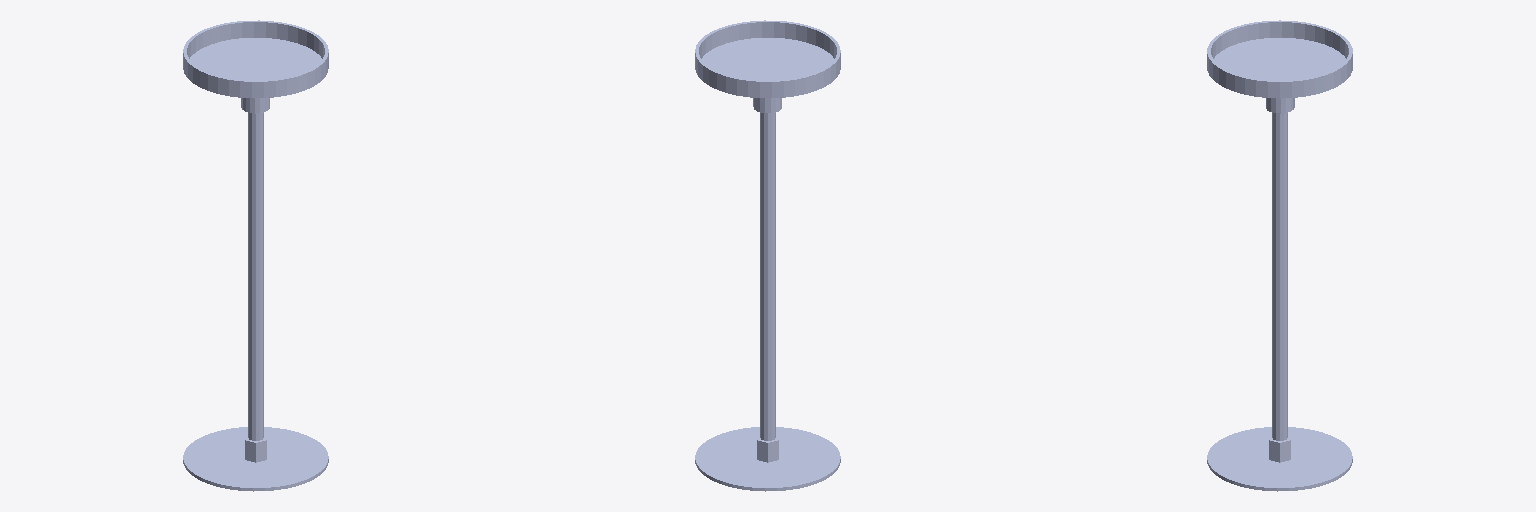
robot.urdf — niot_candy:
<robot
  name="niot_candy">
  <link
    name="base_link">
    <inertial>
      <origin
        xyz="0.059548 0.34292 0.18827"
        rpy="0 0 0" />
      <mass
        value="0.55615" />
      <inertia
        ixx="0.029936"
        ixy="2.1512E-18"
        ixz="-8.0471E-35"
        iyy="6.1915E-34"
        iyz="-7.2222E-35"
        izz="0.029936" />
    </inertial>
    <visual>
      <origin
        xyz="0 0 0"
        rpy="0 0 0" />
      <geometry>
        <mesh
          filename="package://niot_candy/meshes/base_link.STL" />
      </geometry>
      <material
        name="">
        <color
          rgba="0.79216 0.81961 0.93333 1" />
      </material>
    </visual>
    <collision>
      <origin
        xyz="0 0 0"
        rpy="0 0 0" />
      <geometry>
        <mesh
          filename="package://niot_candy/meshes/base_link.STL" />
      </geometry>
    </collision>
  </link>
  <gazebo reference="base_link">
    <material>Gazebo/Yellow</material>
  </gazebo>
  <gazebo>
    <static>true</static>
  </gazebo>
</robot>

--- Render facts (derived) ---
3 views of the same robot in one strip: view 1: azimuth 30°, elevation 25°; view 2: azimuth 150°, elevation 25°; view 3: azimuth 270°, elevation 25° (orthographic).
Model niot_candy with 1 links and 0 joints (none), rooted at base_link, posed all joints at 0.
Visible links, largest first — view 1: base_link; view 2: base_link; view 3: base_link.
Boxes of the visible links, <box> form: base_link: <box>183,20,328,491</box>; base_link: <box>695,20,840,491</box>; base_link: <box>1207,20,1352,491</box>.
Size in the robot's own frame: 0.2 by 0.2 by 0.62 metres.
1 mesh visuals loaded from 1 distinct referenced files (1 binary STL).
